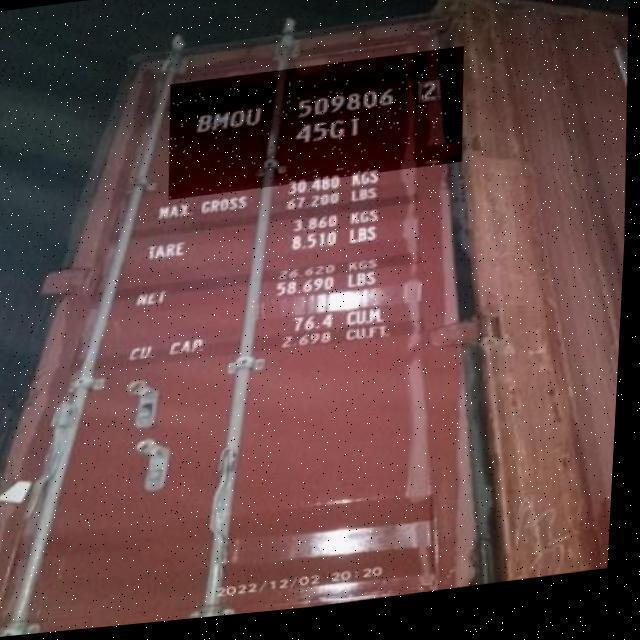container_number_h: (166, 55, 468, 204)
